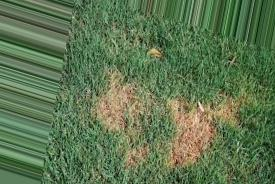patch: (176, 118, 203, 147), (98, 94, 128, 119)
